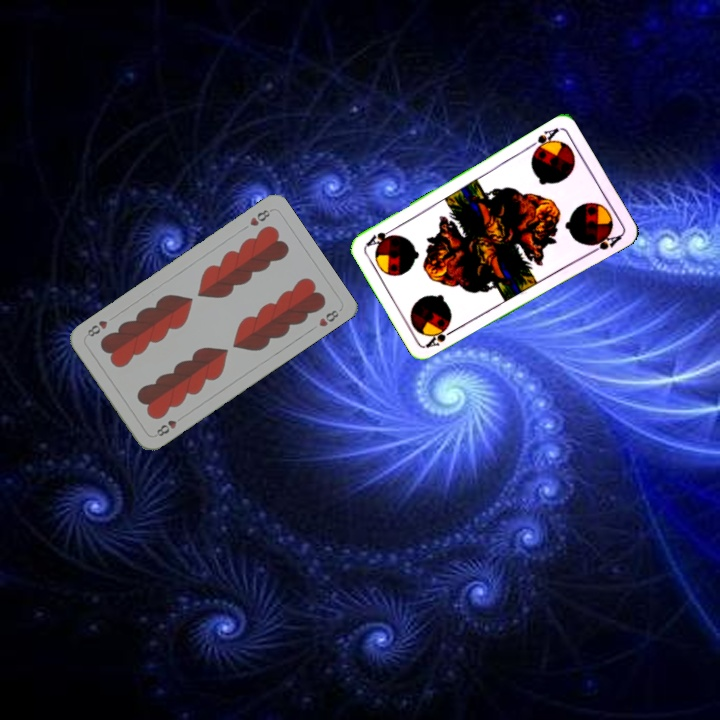H8: (245, 205, 274, 229), (152, 416, 179, 439)
SA: (524, 123, 561, 157), (422, 324, 460, 350)
